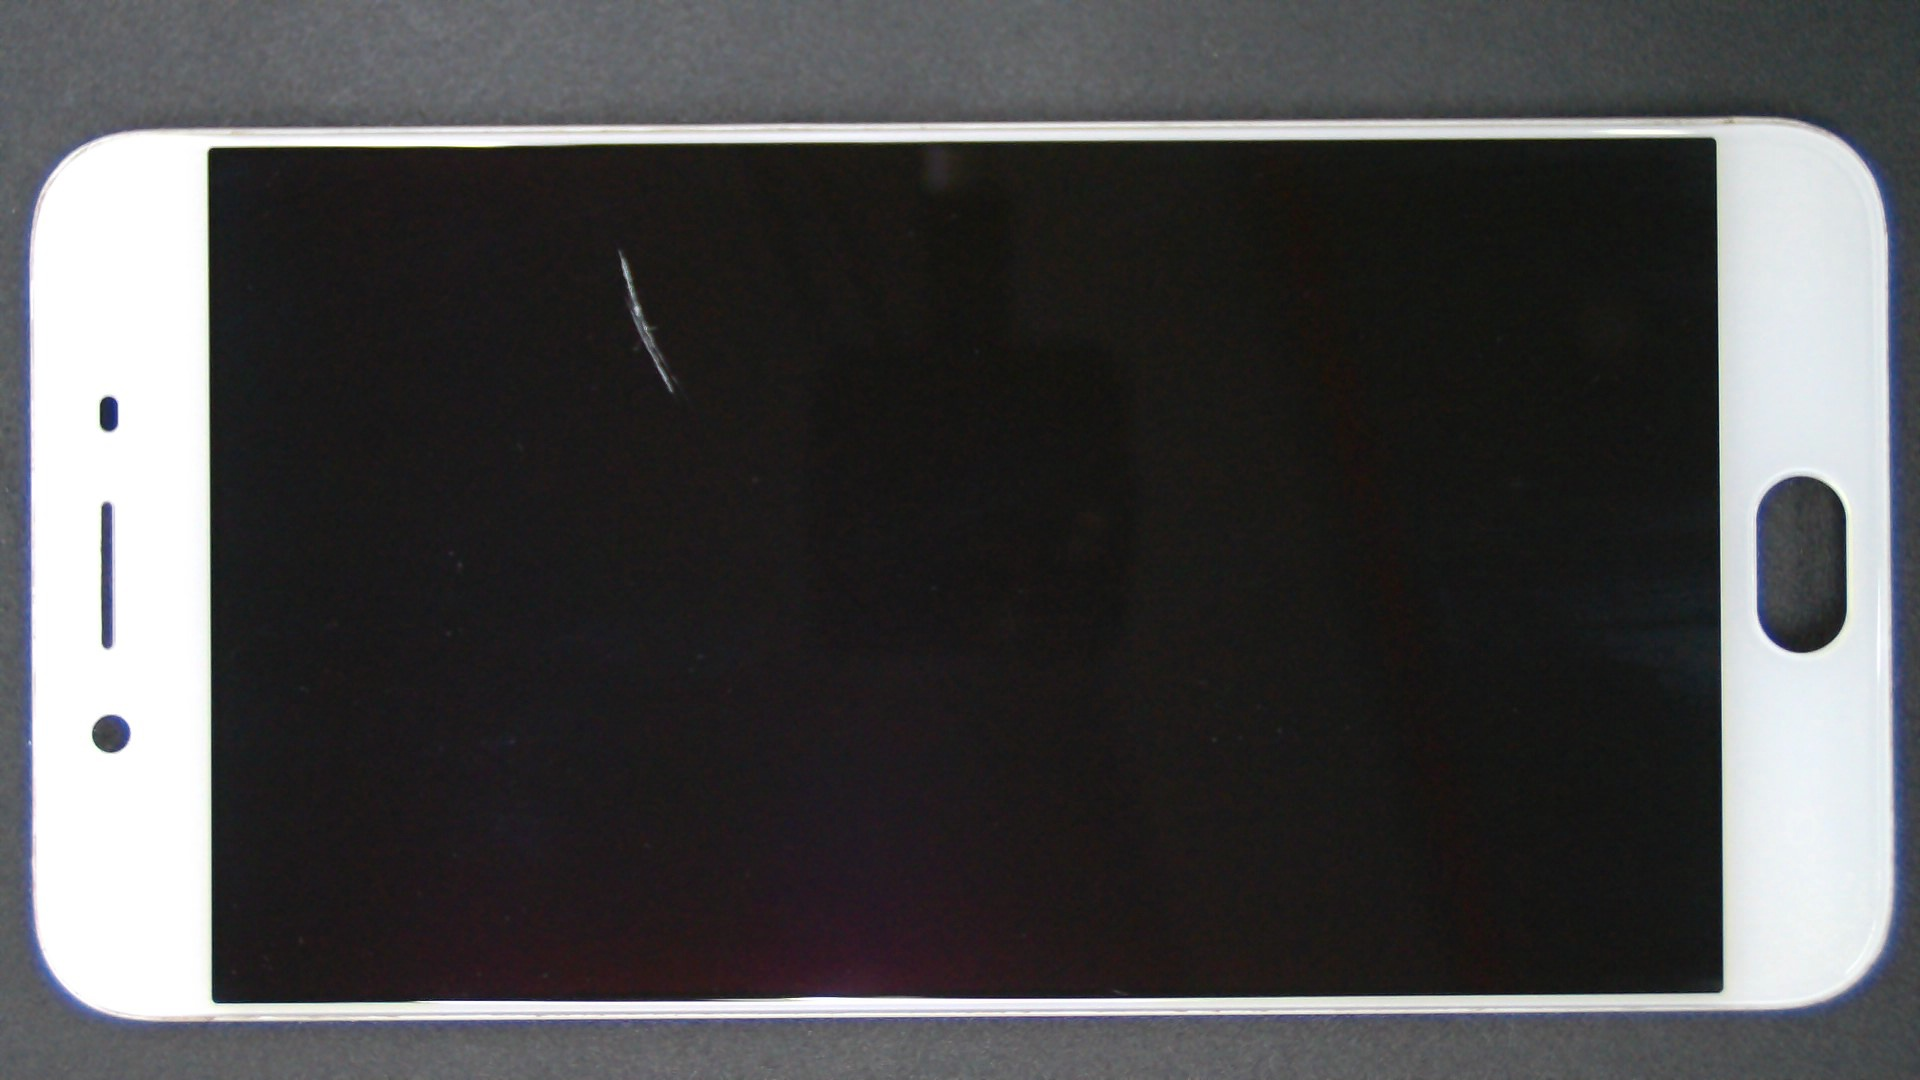oil: (311, 124, 931, 376)
